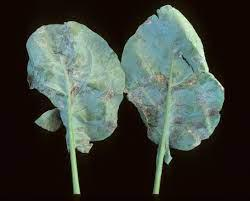Bok-Choy-Diseased: (123, 34, 221, 150), (28, 24, 119, 144)
